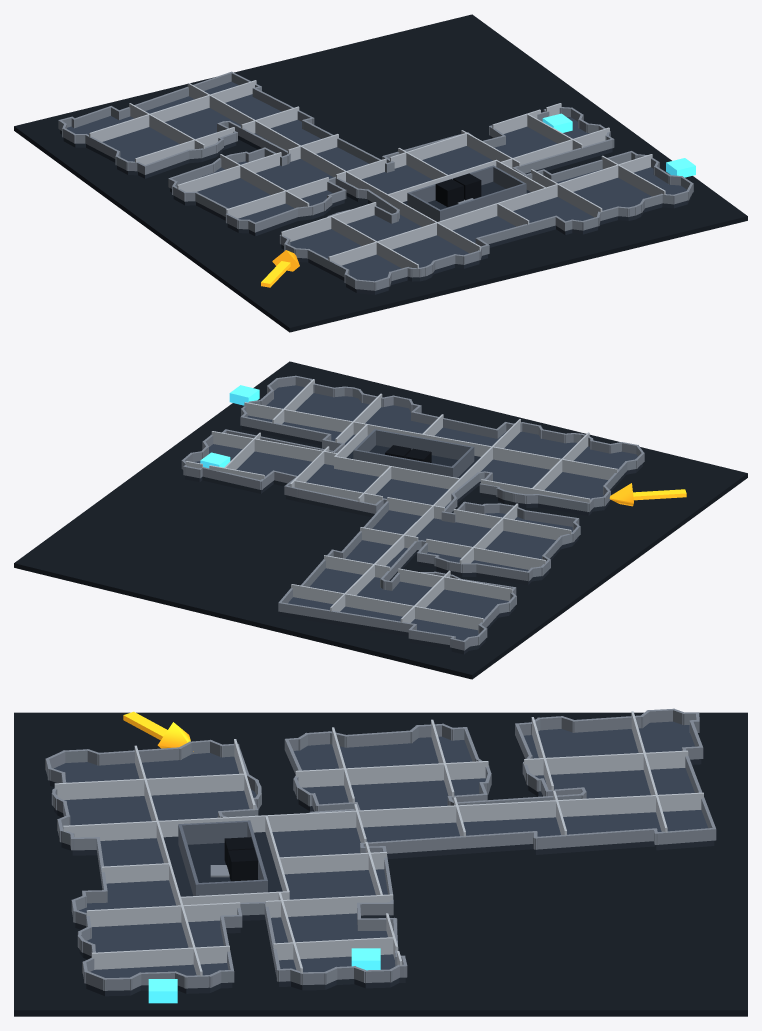
3 renders of one model, top to bottom at view 1: azimuth 30°, elevation 25°; view 2: azimuth 150°, elevation 25°; view 3: azimuth 270°, elevation 25°, orthographic. The views are drawn at different scales.
Visible parts, largest first — view 1: FireSight 400 Duboce Ave B1; view 2: FireSight 400 Duboce Ave B1; view 3: FireSight 400 Duboce Ave B1.
Part boxes in pixels (<box>): FireSight 400 Duboce Ave B1: <box>14,14,747,332</box>; FireSight 400 Duboce Ave B1: <box>14,361,747,679</box>; FireSight 400 Duboce Ave B1: <box>14,708,747,1016</box>.
Bounding box in the file's own units: 0.6302 × 0.037 × 0.6567.
